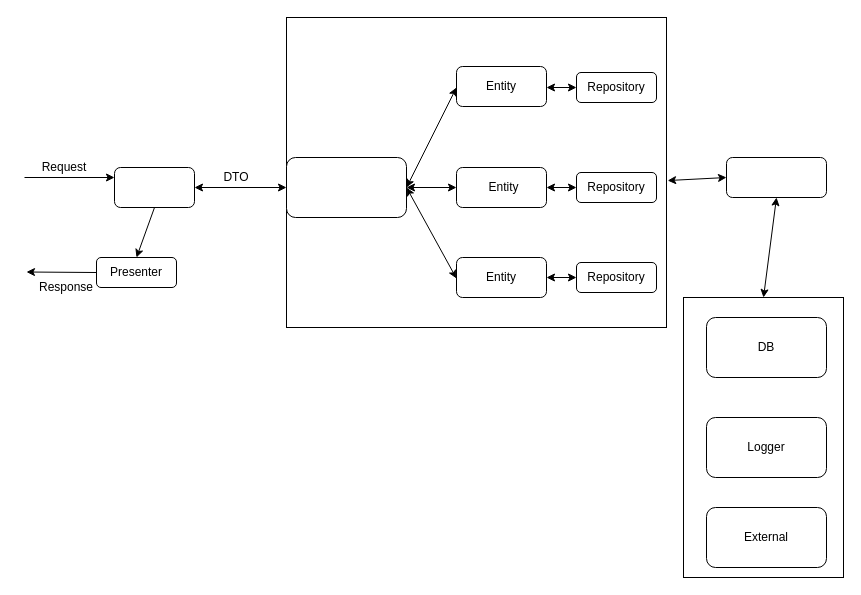
This 861x595 diagram has some shape labels left out. Each missing label, with the box of its shape:
Controller: (114, 166, 194, 208)
IOC Container: (726, 156, 826, 198)
Service (UseCase): (286, 156, 406, 218)
